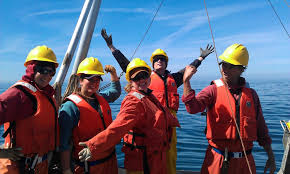Person_wearing_helmet: (72, 50, 104, 86)
